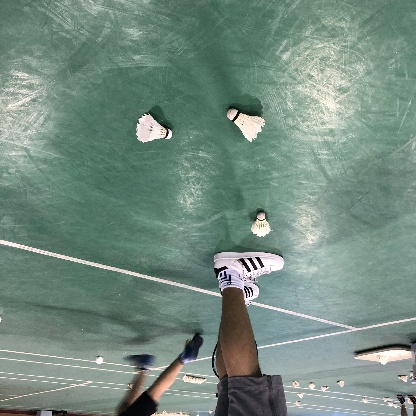ball_single: (227, 108, 266, 142), (136, 113, 173, 143), (251, 212, 271, 237), (183, 375, 207, 384), (398, 376, 408, 382), (96, 356, 103, 364), (337, 380, 344, 387), (321, 386, 329, 392), (293, 381, 299, 387), (309, 383, 315, 389), (297, 393, 303, 399), (296, 401, 300, 406)
